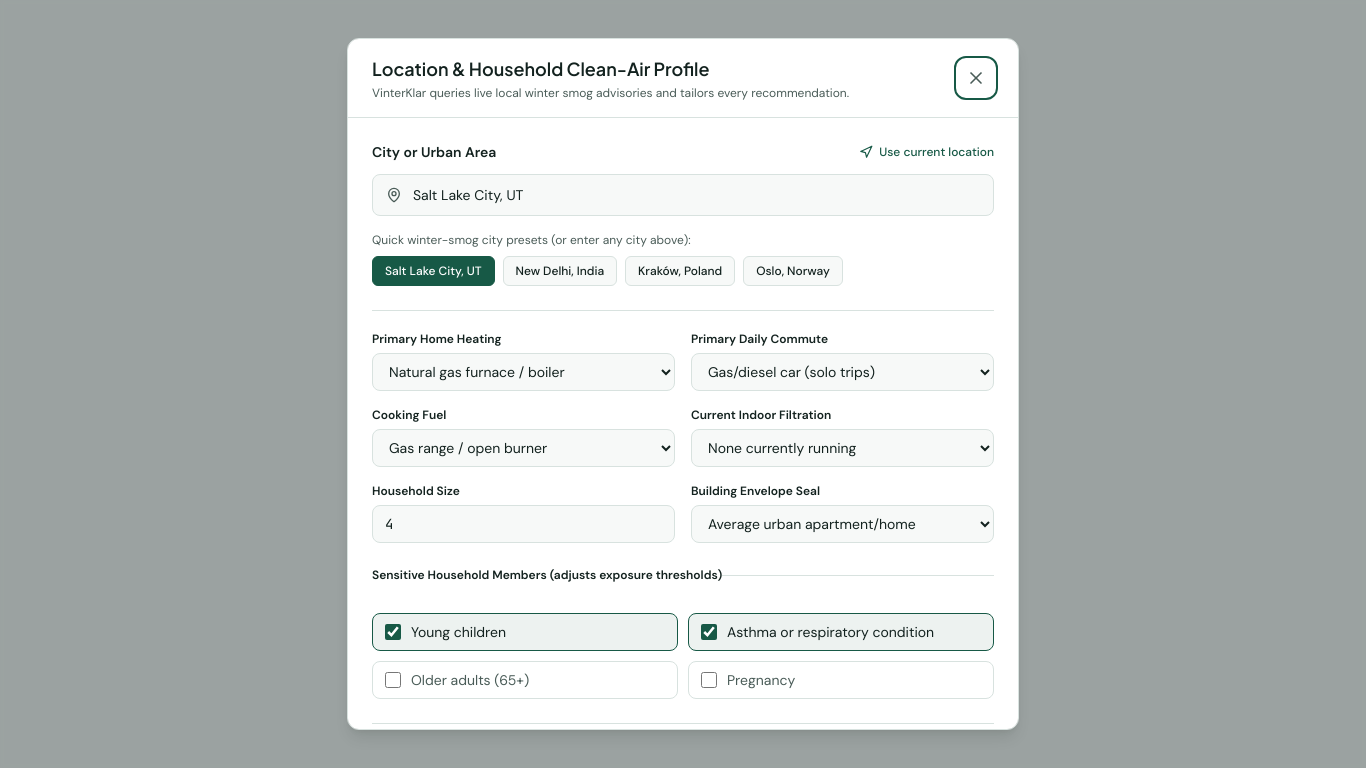
it: VinterKlar UI Components & Accessibility › ProfileModal selects city presets, toggles sensitive members, submits profile, and dismisses on Escape
The width and height of the screenshot is (1366, 768).
Later steps or results of the test are not shown.
Click the button "Oslo, Norway".
click(793, 271)  # box [743,256,843,286]
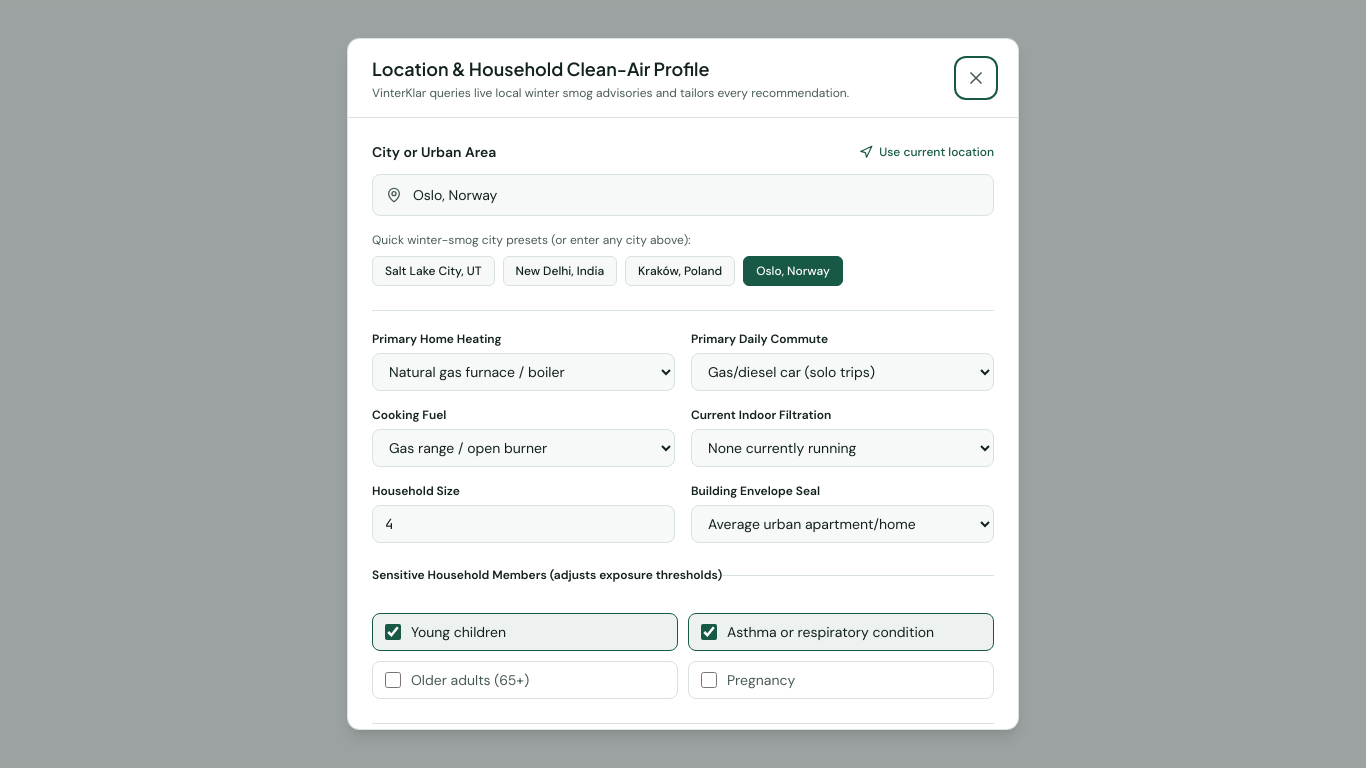
Expected: the button "Oslo, Norway" is pressed, [743,256,843,286]
